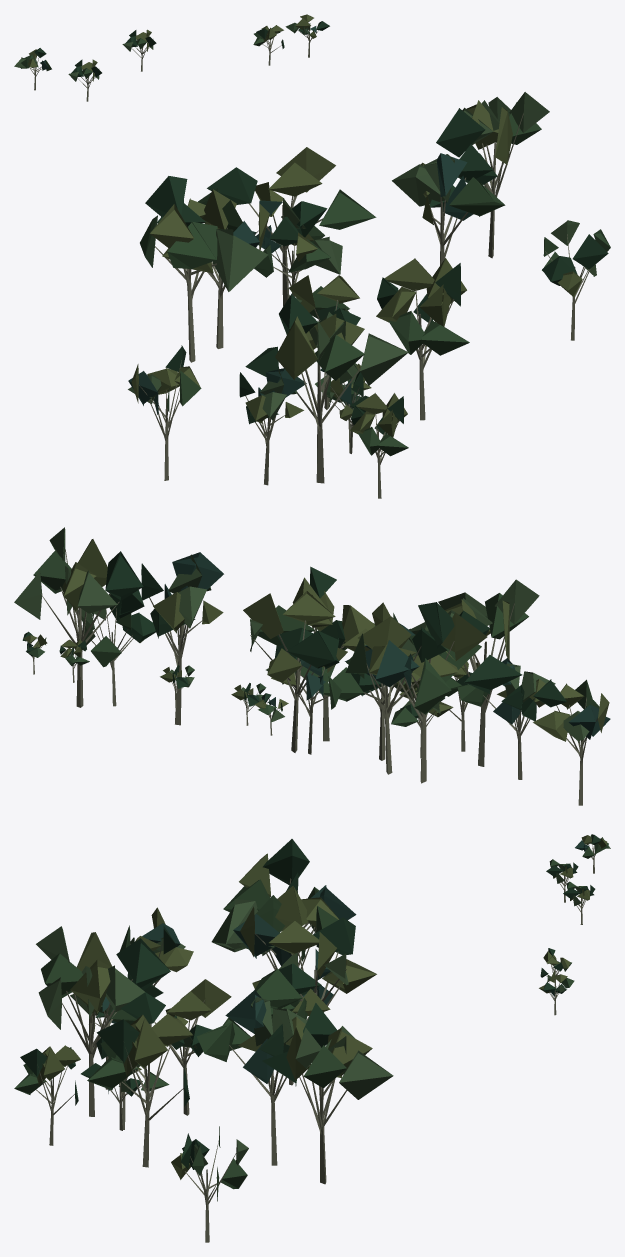
The model's file is forest_21_21.dae.
3 renders of one model, top to bottom at view 1: azimuth 30°, elevation 25°; view 2: azimuth 150°, elevation 25°; view 3: azimuth 270°, elevation 25°, orthographic.
Visible parts, largest first — view 1: Node; view 2: Node; view 3: Node.
Part boxes in pixels (x1,y1,x2,y2): Node: [14, 14, 610, 498]; Node: [14, 527, 610, 805]; Node: [14, 834, 610, 1242].
Bounding box in the file's own units: 10.06 × 10.38 × 5.28.
